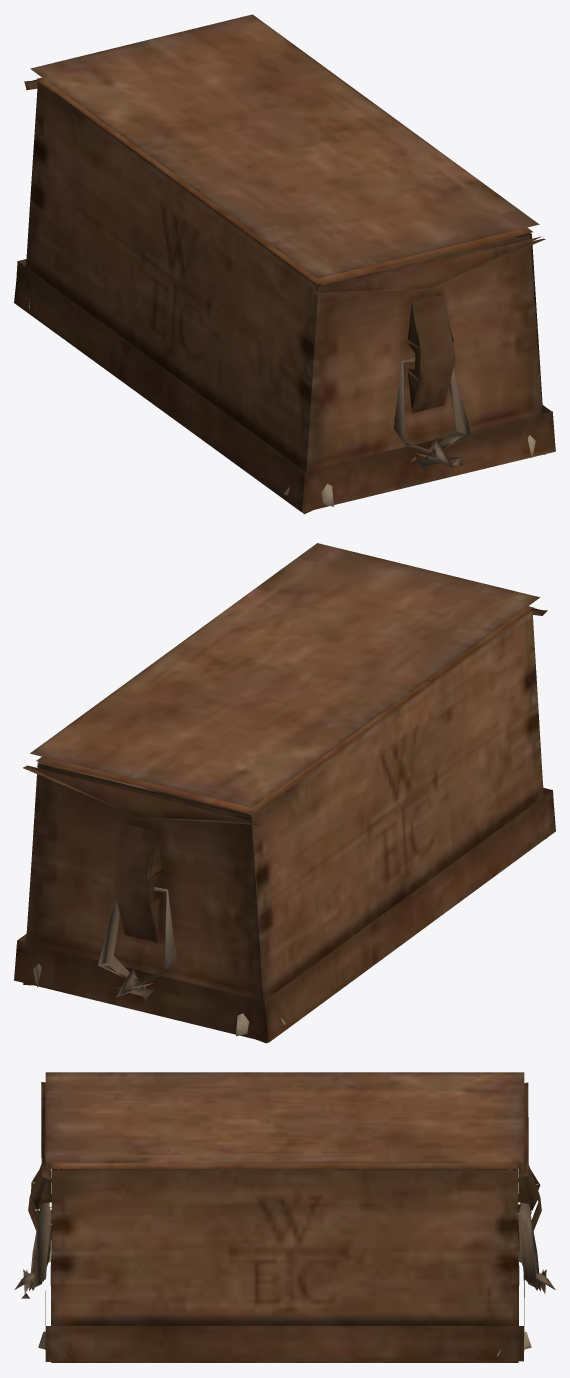
The model's file is crate.glb.
3 views of the same model, one above another, from view 1: azimuth 30°, elevation 25°; view 2: azimuth 150°, elevation 25°; view 3: azimuth 270°, elevation 25° (orthographic). The views are drawn at different scales.
Visible parts, largest first — view 1: wooden_crate_02_crate; view 2: wooden_crate_02_crate; view 3: wooden_crate_02_crate.
Boxes of the visible parts, bbox=[...] form: wooden_crate_02_crate: bbox=[14, 14, 555, 514]; wooden_crate_02_crate: bbox=[14, 543, 555, 1043]; wooden_crate_02_crate: bbox=[14, 1072, 555, 1362].
Bounding box in the file's own units: 0.5283 × 0.4623 × 1.16.
Materials: 1 (1 with a texture image).
